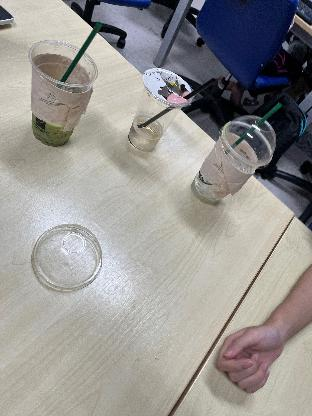Plastic Cup: (184, 116, 274, 206), (27, 39, 99, 149), (124, 66, 194, 160), (31, 226, 109, 288), (217, 112, 282, 162)
